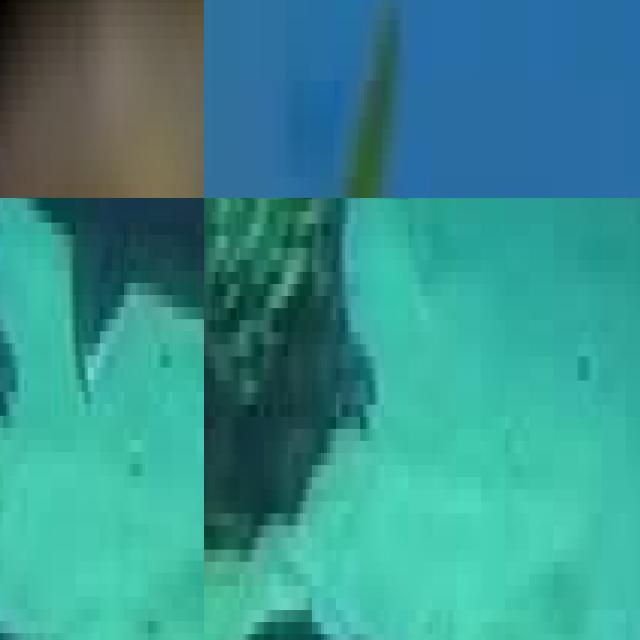fish: (0, 0, 204, 198)
